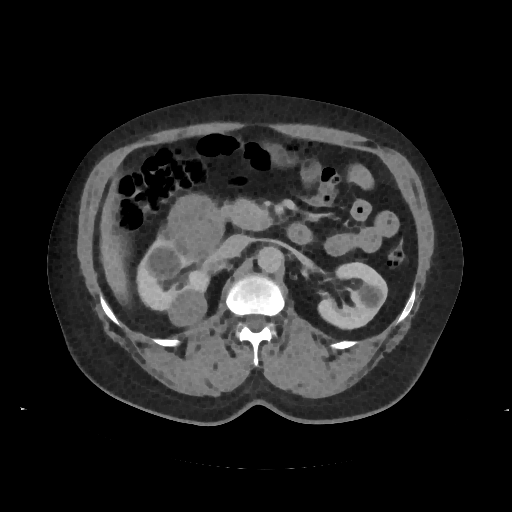Lesion: (357, 282, 385, 311)
